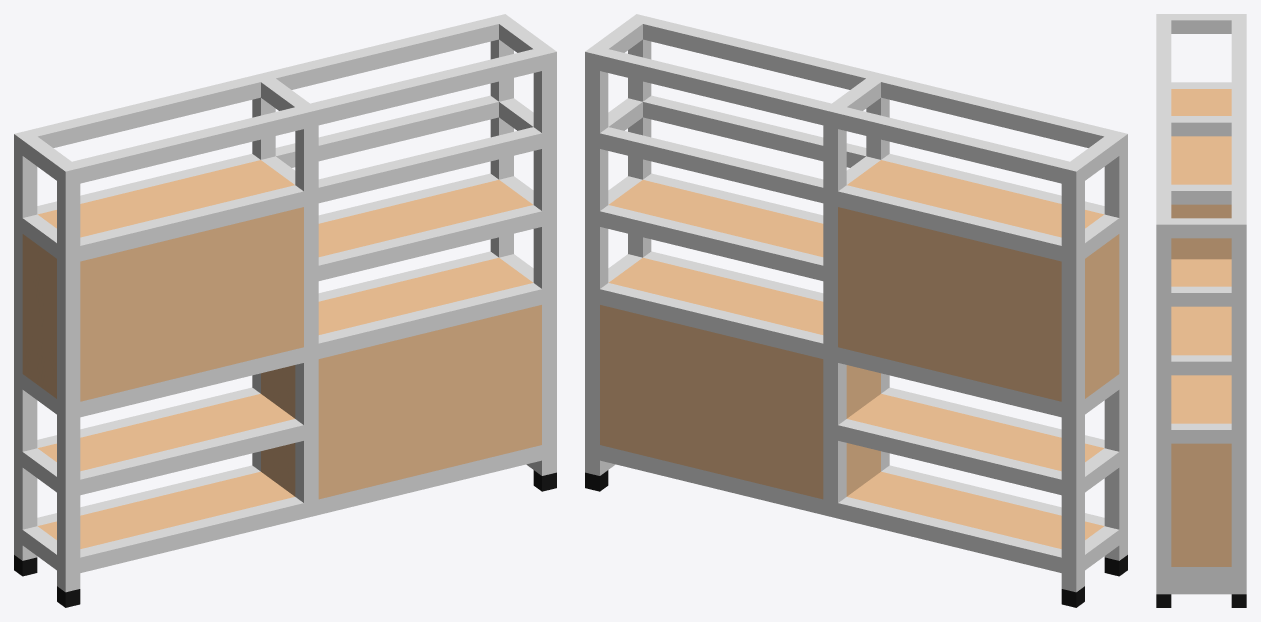
Rendered from dice_2og-34-green_divider.obj.
3 views of the same model, side by side, from view 1: azimuth 30°, elevation 25°; view 2: azimuth 150°, elevation 25°; view 3: azimuth 270°, elevation 25° (orthographic). The views are drawn at different scales.
Parts seen in each view (by area): view 1: green_divider; view 2: green_divider; view 3: green_divider.
Boxes of the visible parts, <box> form: green_divider: <box>14,14,556,607</box>; green_divider: <box>585,14,1127,607</box>; green_divider: <box>1156,14,1246,607</box>.
Bounding box in the file's own units: 3.3 × 2.8 × 0.6.
1 material, 1 textured.
